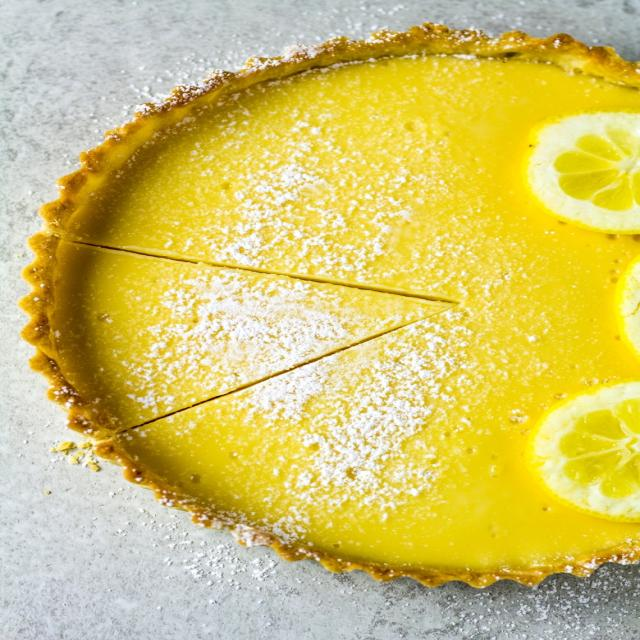lemon: (520, 370, 640, 525), (501, 104, 640, 233)
